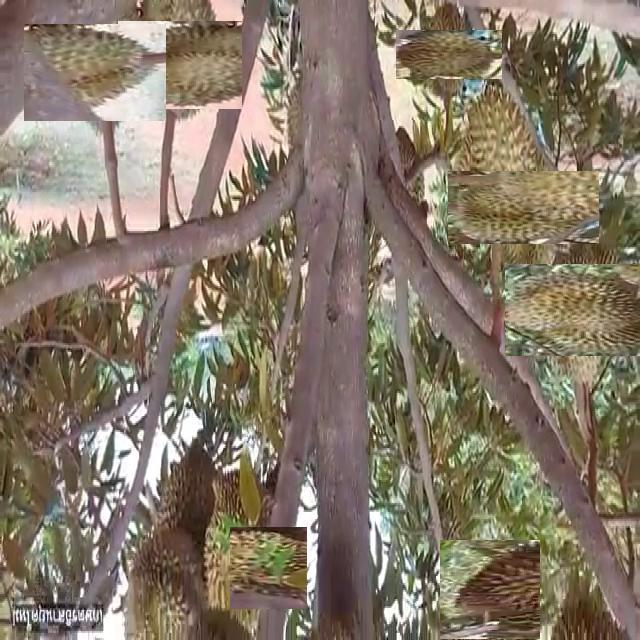durian: (520, 249, 640, 372), (148, 436, 230, 614), (35, 12, 155, 132), (455, 86, 539, 247), (467, 151, 580, 264), (120, 523, 221, 640), (127, 11, 233, 118), (188, 514, 294, 621), (440, 540, 540, 640), (376, 120, 426, 245), (410, 16, 488, 94), (546, 601, 634, 640)
